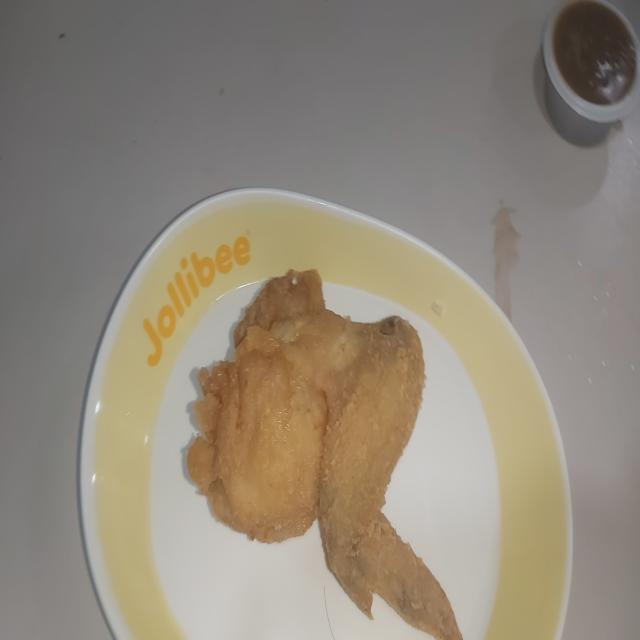Chicken -Fried Chicken-: (186, 263, 467, 640)
